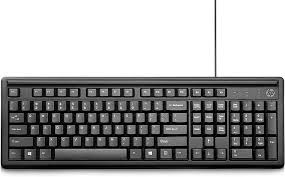keyboard: (4, 73, 282, 177)
